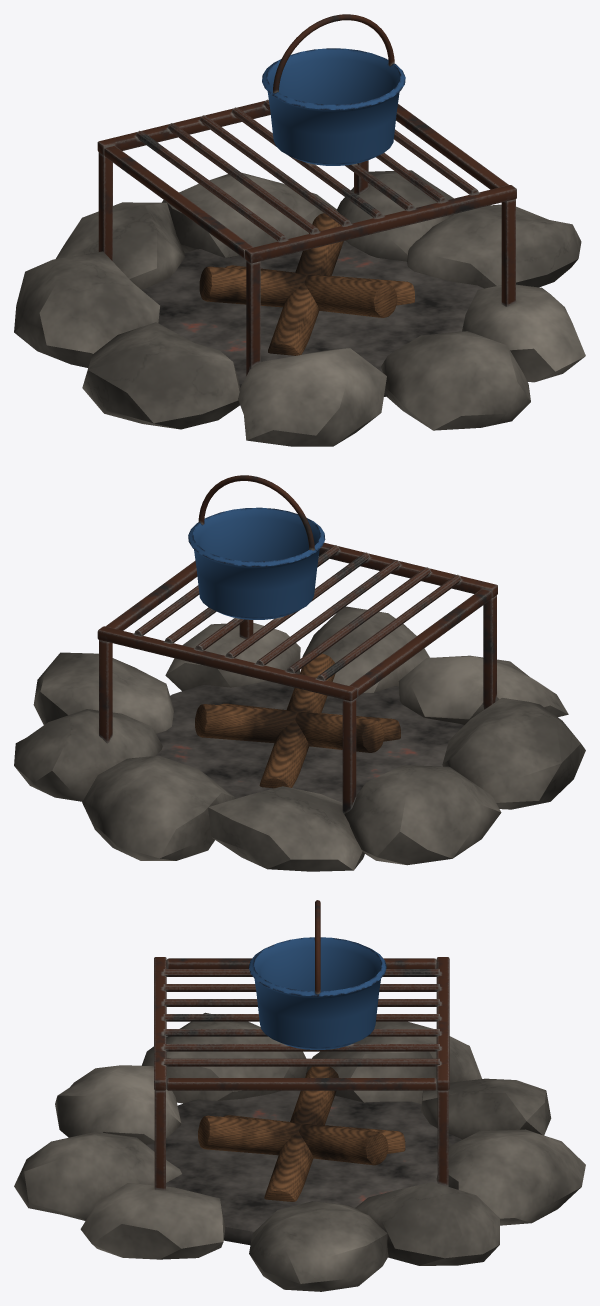
The model's file is ocakbasi.glb.
The picture shows the model from 3 angles, top to bottom: view 1: azimuth 30°, elevation 25°; view 2: azimuth 150°, elevation 25°; view 3: azimuth 270°, elevation 25°; orthographic projection. The views are drawn at different scales.
Visible parts, largest first — view 1: ocakbasi; view 2: ocakbasi; view 3: ocakbasi.
Part boxes in pixels (x1=…): ocakbasi: x1=14, y1=14, x2=585, y2=446; ocakbasi: x1=14, y1=475, x2=585, y2=871; ocakbasi: x1=14, y1=900, x2=585, y2=1291.
Size of the model in its own units: 1.8 by 0.999 by 1.78.
1 material, 1 textured.
